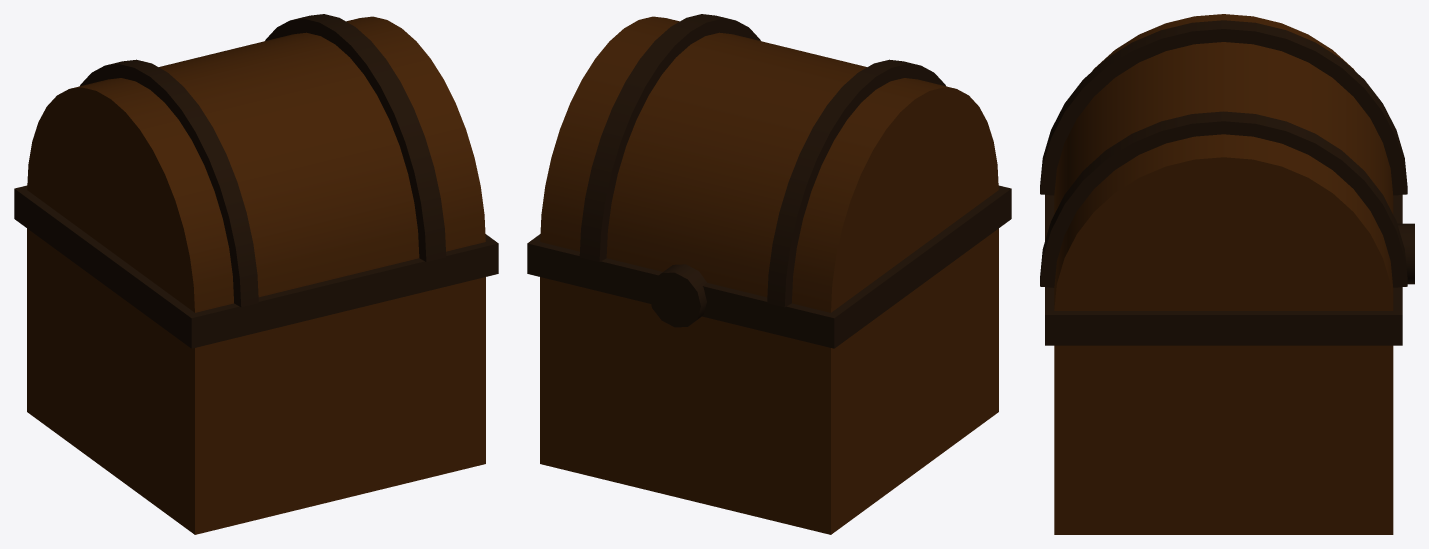
The model's file is chest.fbx.
3 renders of one model, left to right at view 1: azimuth 30°, elevation 25°; view 2: azimuth 150°, elevation 25°; view 3: azimuth 270°, elevation 25°, orthographic.
Visible parts, largest first — view 1: Cube, top; view 2: Cube, top, Cylinder; view 3: top, Cube, Cylinder.
Part boxes in pixels (left/top/right/bottom): Cube: left=14, top=185, right=498, bottom=534; top: left=27, top=14, right=485, bottom=312; Cube: left=527, top=185, right=1011, bottom=534; top: left=540, top=14, right=998, bottom=312; Cylinder: left=648, top=264, right=706, bottom=327; top: left=1040, top=14, right=1407, bottom=310; Cube: left=1045, top=195, right=1402, bottom=534; Cylinder: left=1397, top=223, right=1414, bottom=284.
Size of the model in its own units: 211 by 254 by 221.
